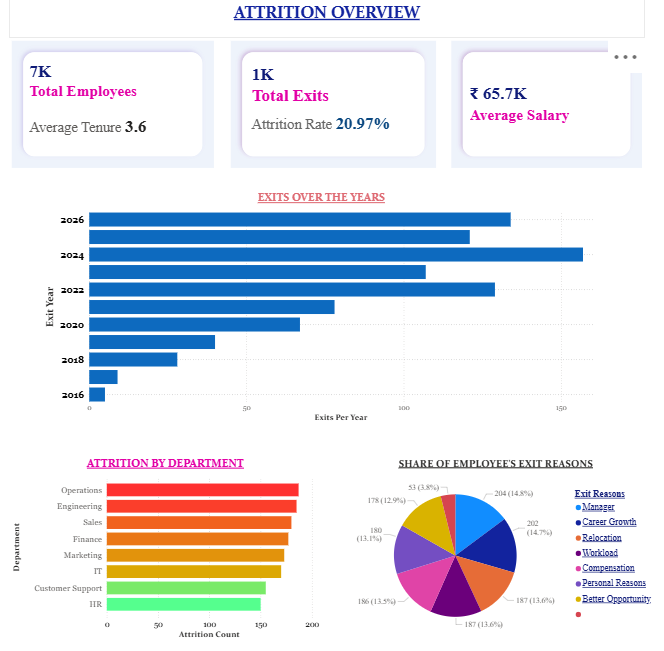

The dashboard page shown, as its layout file describes it:
{"tool":"powerbi","page":{"name":"Page 1","canvas":[1280,1280],"ordinal":0},"visuals":[{"type":"cardVisual","fields":{"Data":["Employee_stats_project3_cleaned.Total Employees"]},"box":[18,104,398,254],"z":0},{"type":"cardVisual","fields":{"Data":["Employee_stats_project3_cleaned.Total Exits"]},"box":[438,104,404,254],"z":1000},{"type":"cardVisual","fields":{"Data":["Employee_stats_project3_cleaned.Average Salary"]},"box":[862,104,376,254],"z":2000},{"type":"pieChart","title":"SHARE OF EMPLOYEE''S EXIT REASONS ","fields":{"Y":["CountNonNull(Employee_stats_project3_cleaned.Employee_ID)"],"Category":["Employee_stats_project3_cleaned.Exit Reason Display"]},"box":[640,907.5,625,355],"z":3000},{"type":"barChart","title":"EXITS OVER THE YEARS","fields":{"Category":["Employee_stats_project3_cleaned.Exit Year"],"Y":["Employee_stats_project3_cleaned.Total Exits"]},"box":[80,398,1072,448],"z":4000},{"type":"barChart","title":"ATTRITION BY DEPARTMENT","fields":{"Y":["CountNonNull(Employee_stats_project3_cleaned.Attrition)"],"Category":["Employee_stats_project3_cleaned.Department"]},"box":[17.5,907.5,600,355],"z":5000},{"type":"textbox","box":[18,28,1220,76],"z":5001}]}

Visuals, with their boxes in screenshot pixels (x1, y1, x2, y2), scaled from the page's 1280x1280 canvas onto the 664x651 screenshot:
cardVisual - Employee_stats_project3_cleaned.Total Employees: {"left": 9, "top": 53, "right": 216, "bottom": 182}
cardVisual - Employee_stats_project3_cleaned.Total Exits: {"left": 227, "top": 53, "right": 437, "bottom": 182}
cardVisual - Employee_stats_project3_cleaned.Average Salary: {"left": 447, "top": 53, "right": 642, "bottom": 182}
"SHARE OF EMPLOYEE''S EXIT REASONS " pieChart: {"left": 332, "top": 462, "right": 656, "bottom": 642}
"EXITS OVER THE YEARS" barChart: {"left": 42, "top": 202, "right": 598, "bottom": 430}
"ATTRITION BY DEPARTMENT" barChart: {"left": 9, "top": 462, "right": 320, "bottom": 642}
textbox: {"left": 9, "top": 14, "right": 642, "bottom": 53}
